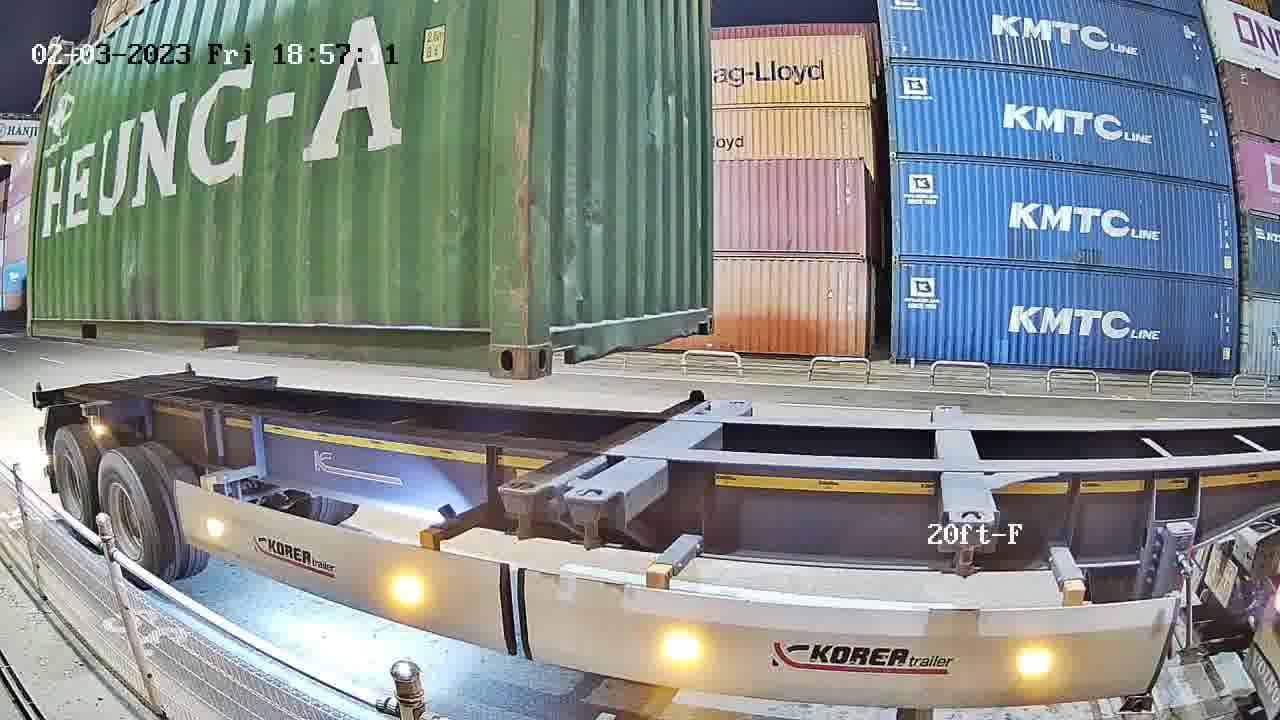Chassis: (501, 399, 710, 496), (566, 399, 753, 501)
Cone: (562, 484, 618, 554), (500, 474, 548, 545), (687, 387, 705, 402)
Hole_L: (528, 298, 583, 379)
Hole_R: (455, 300, 529, 379), (692, 294, 715, 335)
Tire: (97, 450, 162, 587), (52, 428, 99, 543)
